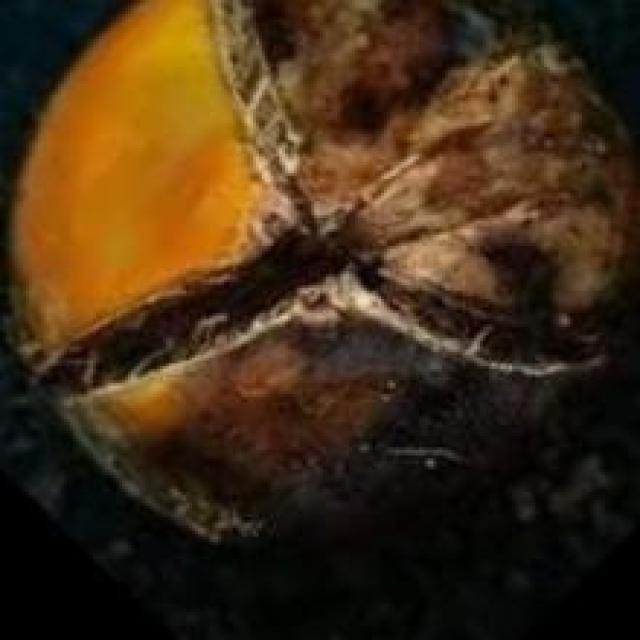damaged: (12, 0, 637, 637)
